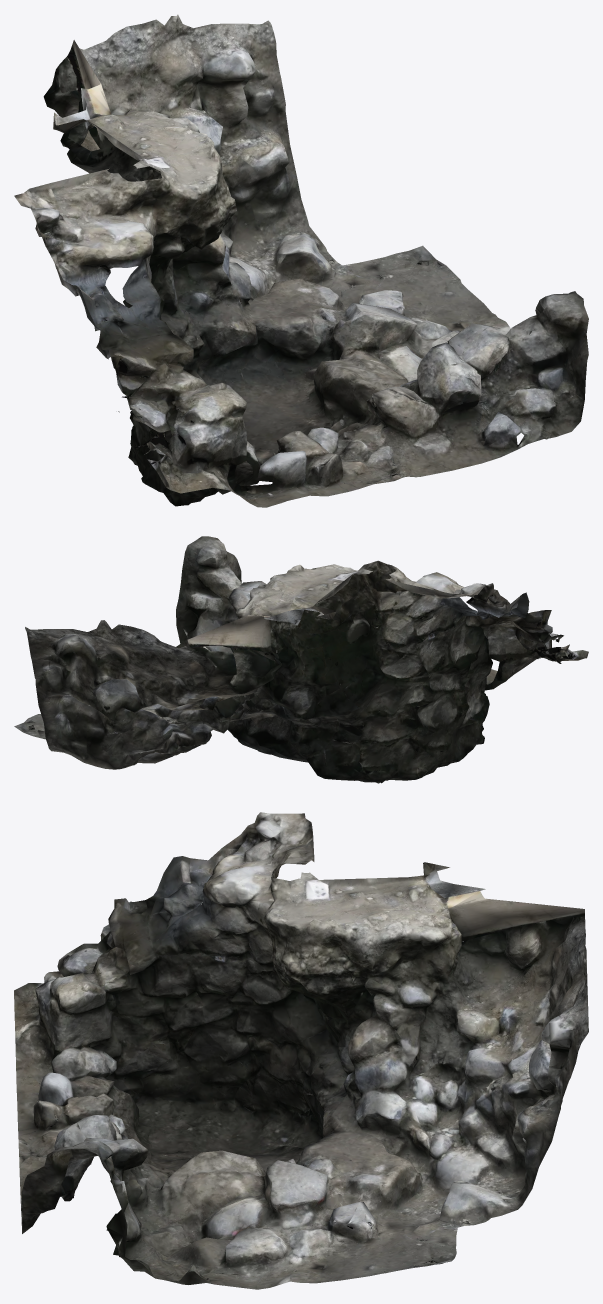
The model's file is well.glb.
The picture shows the model from 3 angles, top to bottom: view 1: azimuth 30°, elevation 25°; view 2: azimuth 150°, elevation 25°; view 3: azimuth 270°, elevation 25°; orthographic projection. The views are drawn at different scales.
Visible parts, largest first — view 1: Object_2; view 2: Object_2; view 3: Object_2.
Boxes of the visible parts, box(x1,y1,x2,y2) form: Object_2: box(14, 14, 588, 507); Object_2: box(14, 536, 588, 783); Object_2: box(14, 812, 588, 1289).
Bounding box in the file's own units: 136 × 73.65 × 141.
1 material, 1 textured.
